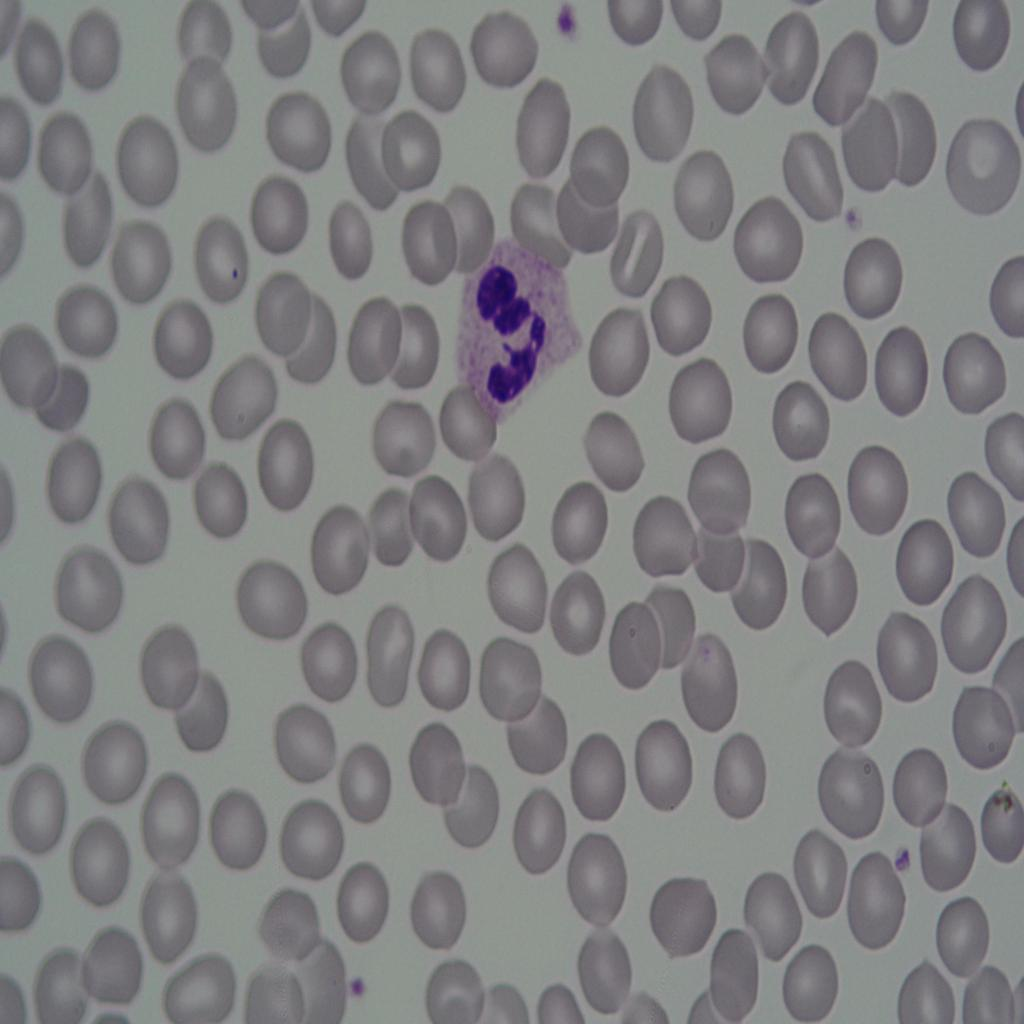Neutrofil: (453, 238, 587, 426)
Platelet: (546, 0, 589, 49), (345, 962, 379, 1013), (891, 831, 916, 889), (842, 199, 866, 240), (224, 260, 240, 284)
